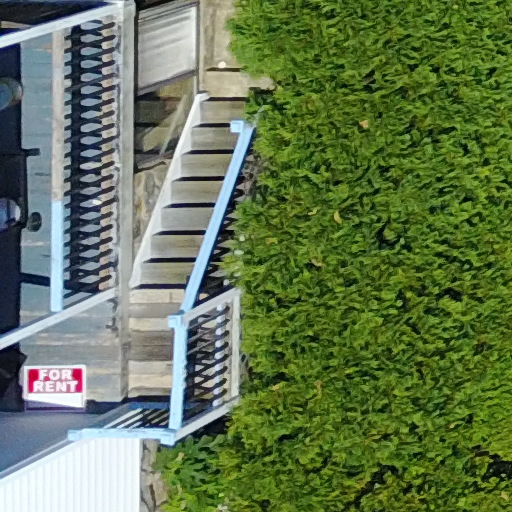porch: (1, 1, 286, 469)
